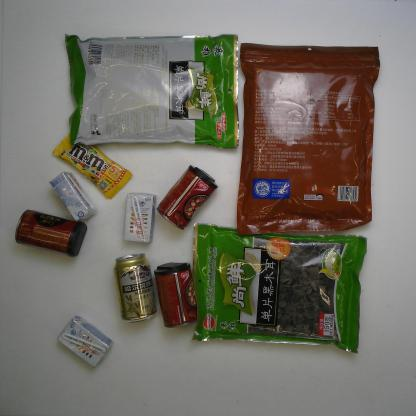Alcohol: (113, 248, 158, 326)
Canned Food: (154, 163, 218, 231), (12, 207, 90, 257), (155, 257, 200, 329)
Chocolate: (50, 128, 134, 201)
Dried Food: (233, 38, 383, 246), (186, 221, 369, 355), (60, 25, 246, 149)
Milk: (54, 314, 114, 370), (47, 170, 96, 222), (121, 191, 158, 246)
